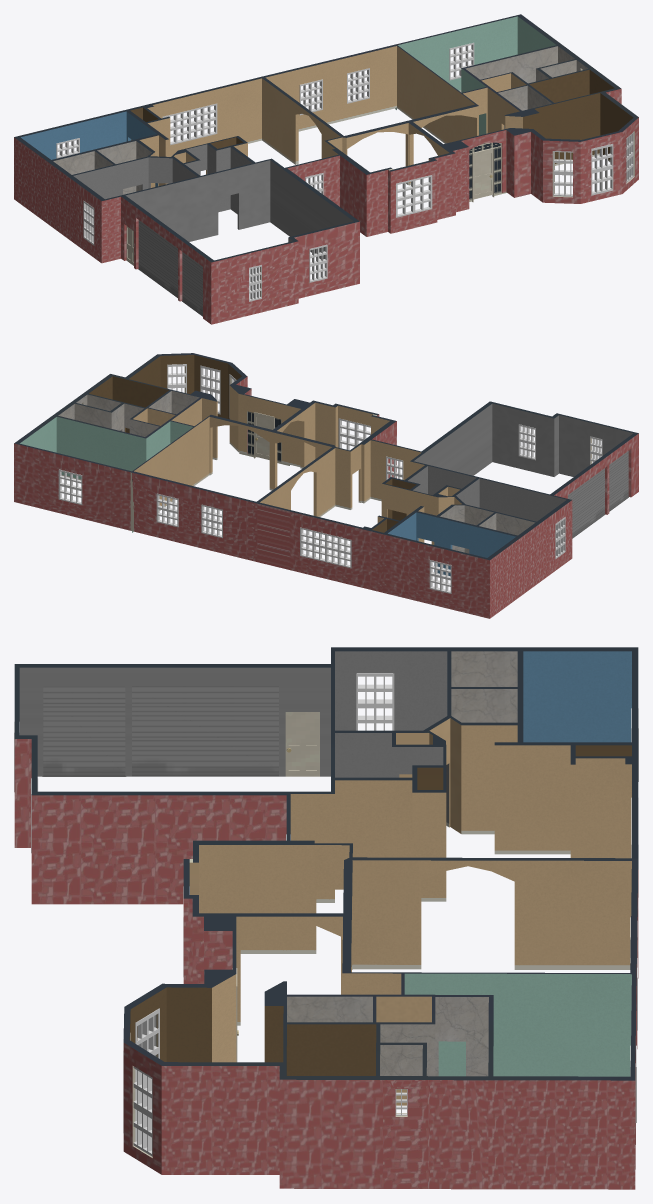
Rendered from FV_Walls.glb.
3 renders of one model, top to bottom at view 1: azimuth 30°, elevation 25°; view 2: azimuth 150°, elevation 25°; view 3: azimuth 270°, elevation 25°, orthographic. The views are drawn at different scales.
Visible parts, largest first — view 1: Walls, WindowFrame.003, WindowFrame.009, WindowFrame.010, WindowFrame.001, WindowFrame, WindowFrame.007, WindowFrame.011, WindowFrame.002, WindowFrame.005; view 2: Walls, WindowFrame.003, WindowFrame, WindowFrame.004, WindowFrame.009, WindowFrame.001, WindowFrame.002, WindowFrame.007, WindowFrame.010, WindowFrame.005; view 3: Walls, WindowFrame.005, WindowFrame.012, WindowFrame.011.
Part boxes in pixels (x1,y1,x2,y2): Walls: [14, 14, 638, 324]; WindowFrame.003: [162, 103, 217, 145]; WindowFrame.009: [396, 175, 432, 217]; WindowFrame.010: [591, 143, 613, 195]; WindowFrame.001: [347, 68, 369, 103]; WindowFrame: [449, 42, 474, 80]; WindowFrame.007: [309, 244, 327, 282]; WindowFrame.011: [553, 151, 572, 196]; WindowFrame.002: [299, 79, 322, 115]; WindowFrame.005: [83, 200, 94, 245]; Walls: [14, 353, 638, 618]; WindowFrame.003: [300, 527, 351, 568]; WindowFrame: [58, 469, 82, 504]; WindowFrame.004: [429, 560, 451, 593]; WindowFrame.009: [338, 418, 370, 450]; WindowFrame.001: [156, 493, 178, 527]; WindowFrame.002: [201, 504, 222, 538]; WindowFrame.007: [518, 424, 535, 460]; WindowFrame.010: [200, 365, 220, 414]; WindowFrame.005: [555, 517, 565, 559]; Walls: [14, 647, 638, 1189]; WindowFrame.005: [356, 673, 394, 730]; WindowFrame.012: [133, 1066, 152, 1156]; WindowFrame.011: [135, 1008, 159, 1058].
Bounding box in the file's own units: 66.62 × 8.1 × 40.61.
9 materials, 9 textured.
